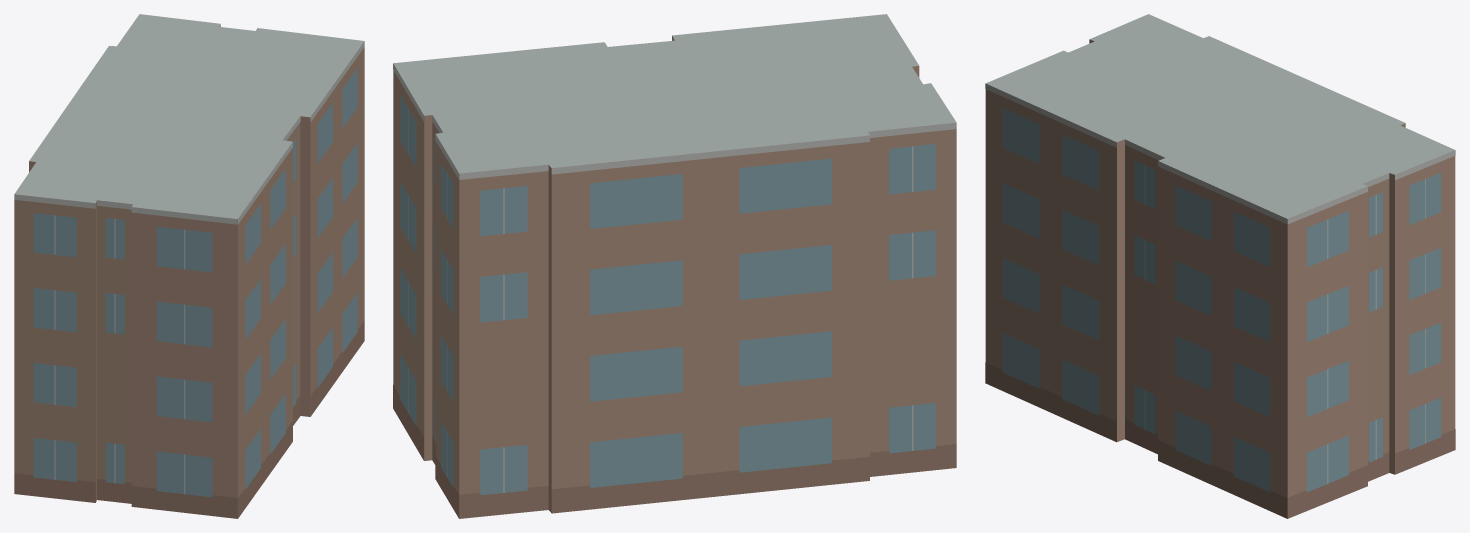
The model's file is survey-upis-32830407.glb.
3 views of the same model, side by side, from view 1: azimuth 30°, elevation 25°; view 2: azimuth 150°, elevation 25°; view 3: azimuth 270°, elevation 25° (orthographic). The views are drawn at different scales.
Visible parts, largest first — view 1: survey-upis-32830407.tmp; view 2: survey-upis-32830407.tmp; view 3: survey-upis-32830407.tmp.
Part boxes in pixels (x1,y1,x2,y2): survey-upis-32830407.tmp: [14, 14, 364, 518]; survey-upis-32830407.tmp: [393, 14, 956, 518]; survey-upis-32830407.tmp: [985, 14, 1455, 518].
Size of the model in its own units: 19.36 by 13.2 by 18.75.
